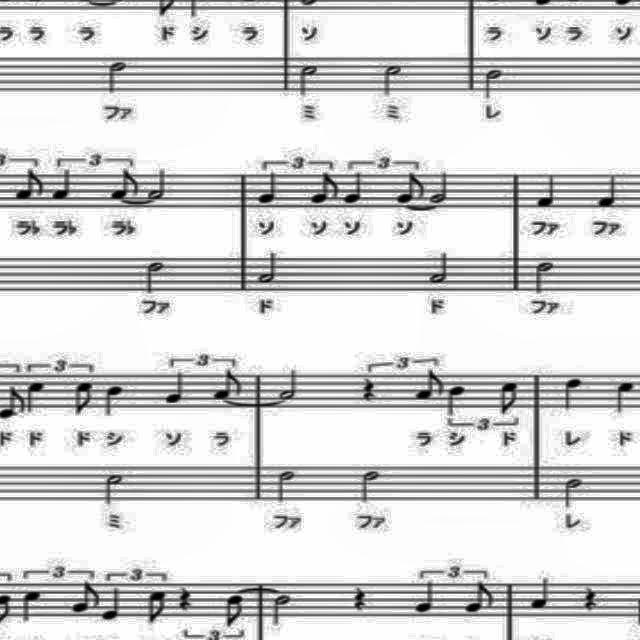Eighth-note: (64, 372, 100, 421), (409, 365, 451, 407), (64, 577, 104, 617), (101, 167, 142, 206), (460, 579, 500, 617), (139, 582, 173, 626), (391, 167, 427, 207), (210, 368, 246, 406), (307, 169, 341, 209), (492, 375, 524, 417), (10, 167, 46, 203), (220, 592, 252, 632)
Half-note: (94, 56, 134, 100), (352, 462, 390, 508), (292, 56, 328, 100), (250, 246, 286, 290), (421, 248, 455, 292), (268, 466, 304, 506), (378, 60, 409, 104), (98, 471, 130, 509), (141, 258, 171, 298), (559, 470, 587, 512), (425, 164, 451, 208), (276, 362, 304, 402), (532, 258, 560, 296), (270, 587, 294, 631), (478, 68, 508, 100), (144, 168, 170, 200)
Quarter-note: (556, 370, 588, 416), (252, 168, 288, 208), (160, 368, 192, 412), (439, 383, 473, 423), (589, 170, 621, 212), (534, 170, 566, 210), (606, 376, 638, 416), (16, 587, 48, 627), (408, 578, 440, 618), (338, 168, 368, 208), (526, 575, 554, 617), (99, 585, 125, 627), (47, 167, 77, 203), (100, 380, 128, 418), (24, 378, 46, 414)
Quarter-rest: (574, 580, 606, 616), (346, 580, 378, 616), (172, 580, 200, 616), (357, 372, 385, 404)
